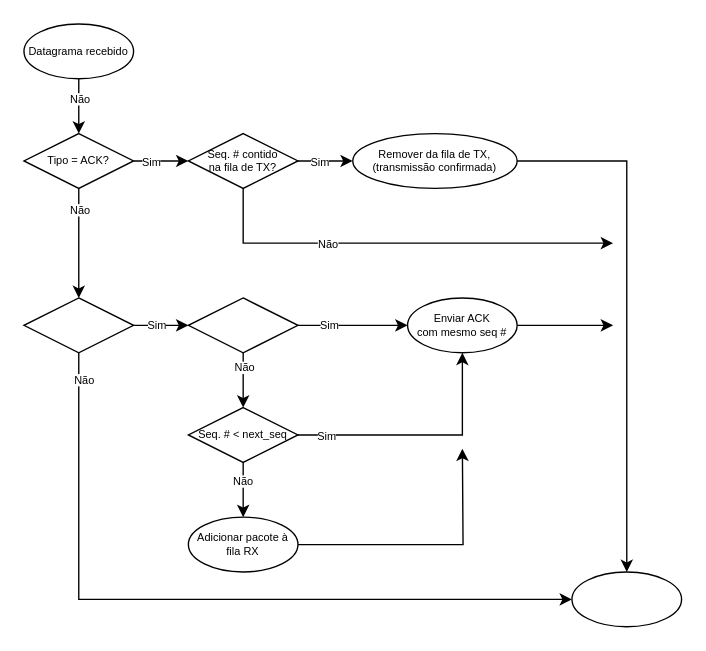
Image size: 706x651. Some labels were removed from this diagram. The box of each missing label's shape, as (x1, y1, x2, y2) in pixels:
Fim: (571, 571, 682, 627)
Seq. # contido na fila de RX?: (187, 297, 298, 353)
Tipo = DATA?: (23, 297, 134, 353)
